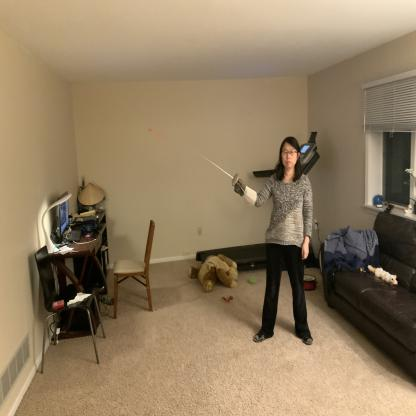foil-tip: (148, 124, 161, 145)
hand-and-foil: (140, 119, 261, 206)
